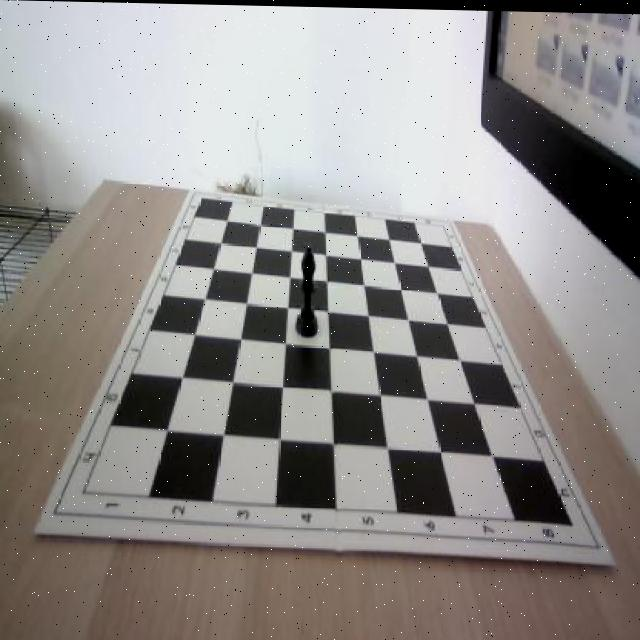bishop: (294, 240, 319, 339)
